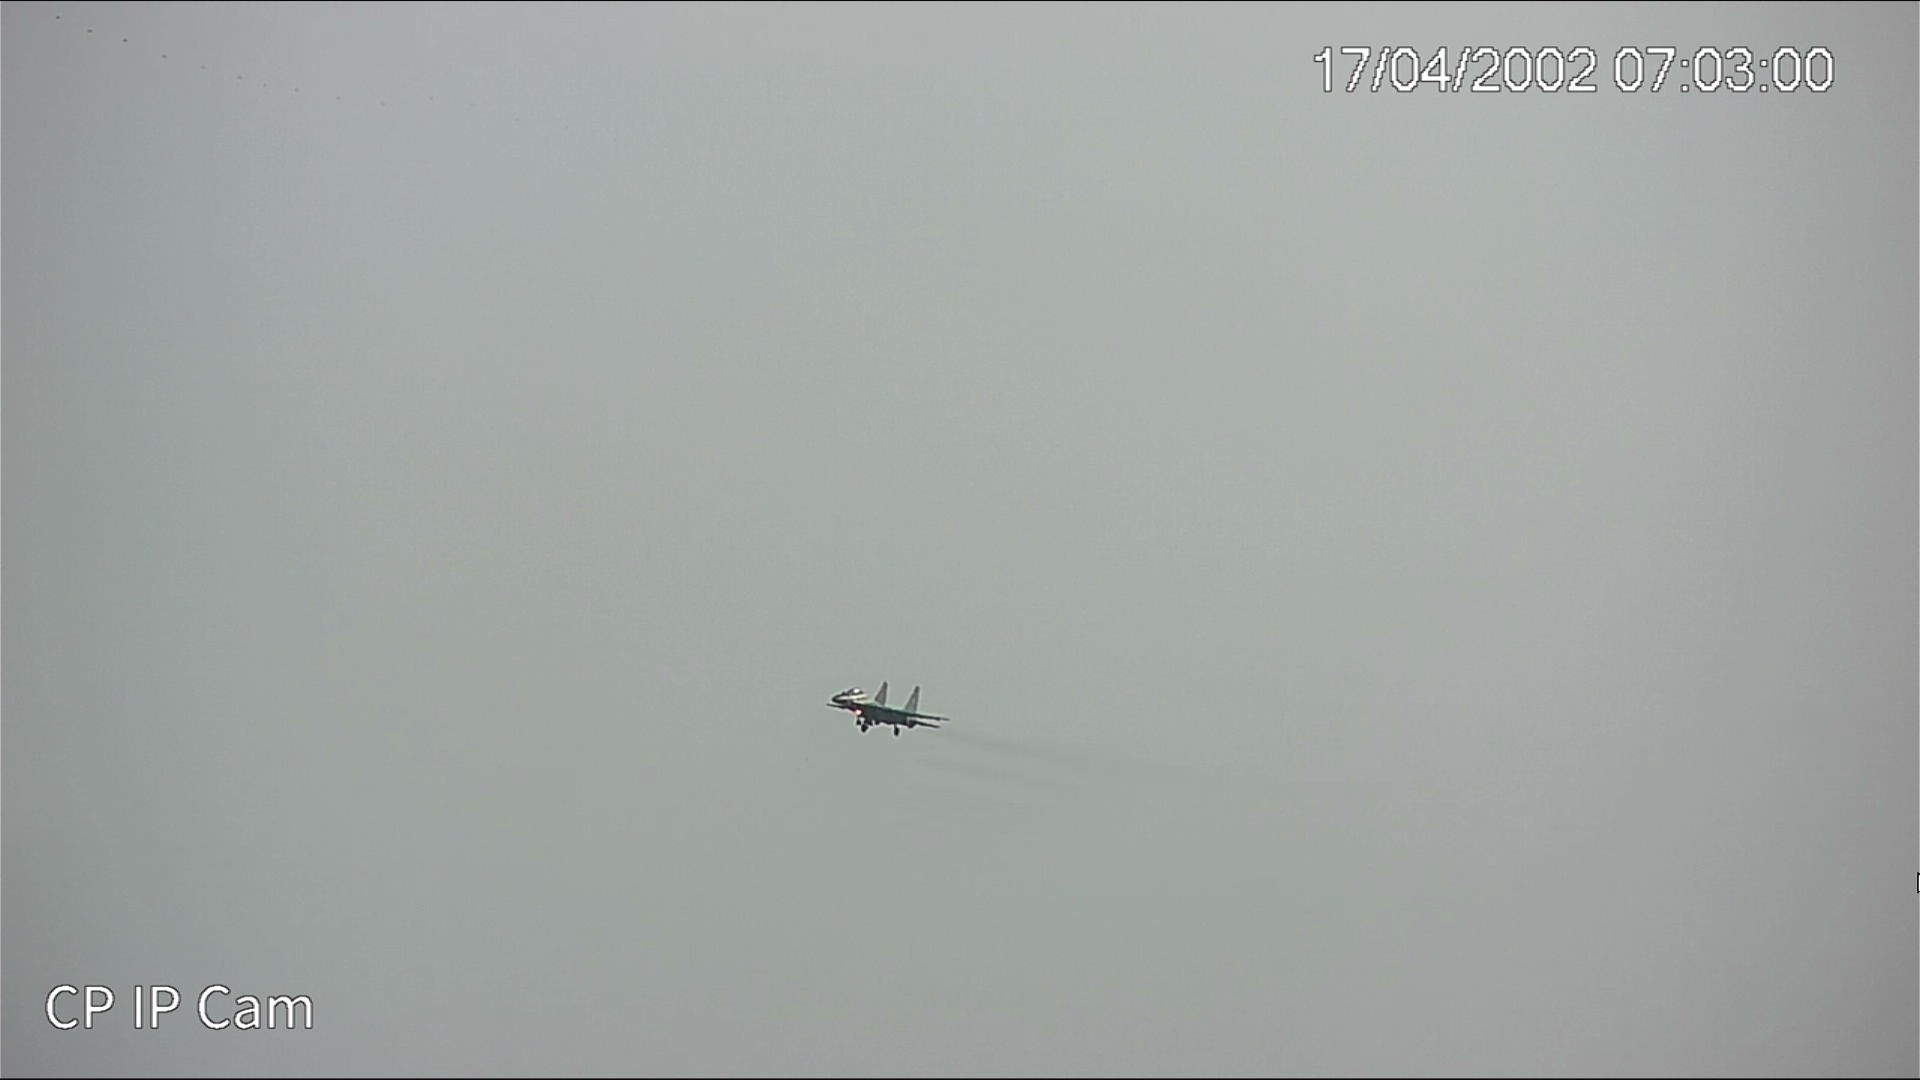SU_30: (822, 679, 944, 736)
